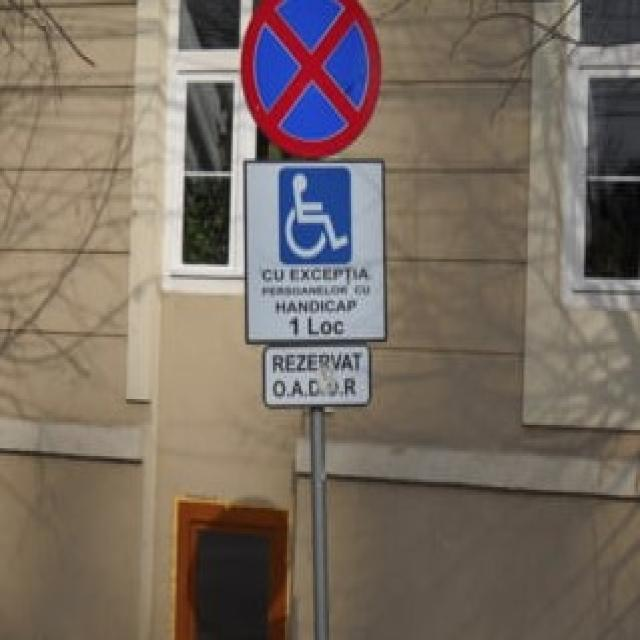symbol_of_access: (277, 163, 354, 265)
